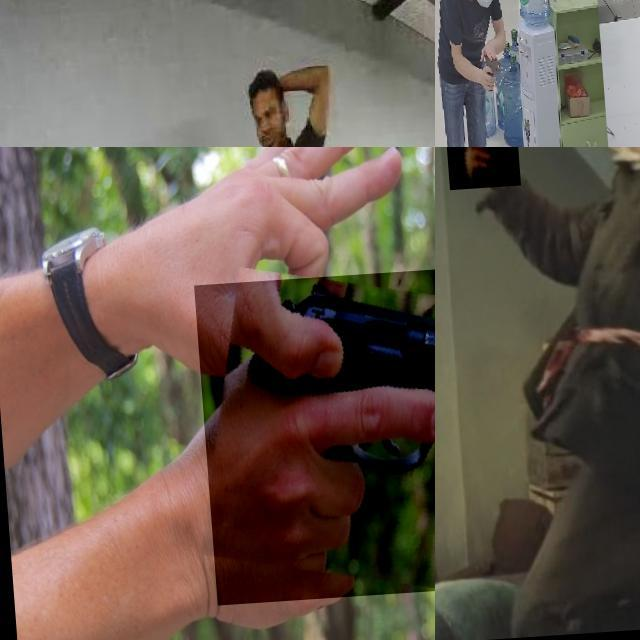gun-knife-thesis - v11 Yolov5 augmented: (190, 270, 435, 608), (441, 147, 517, 201), (475, 52, 495, 94), (455, 0, 490, 23)
